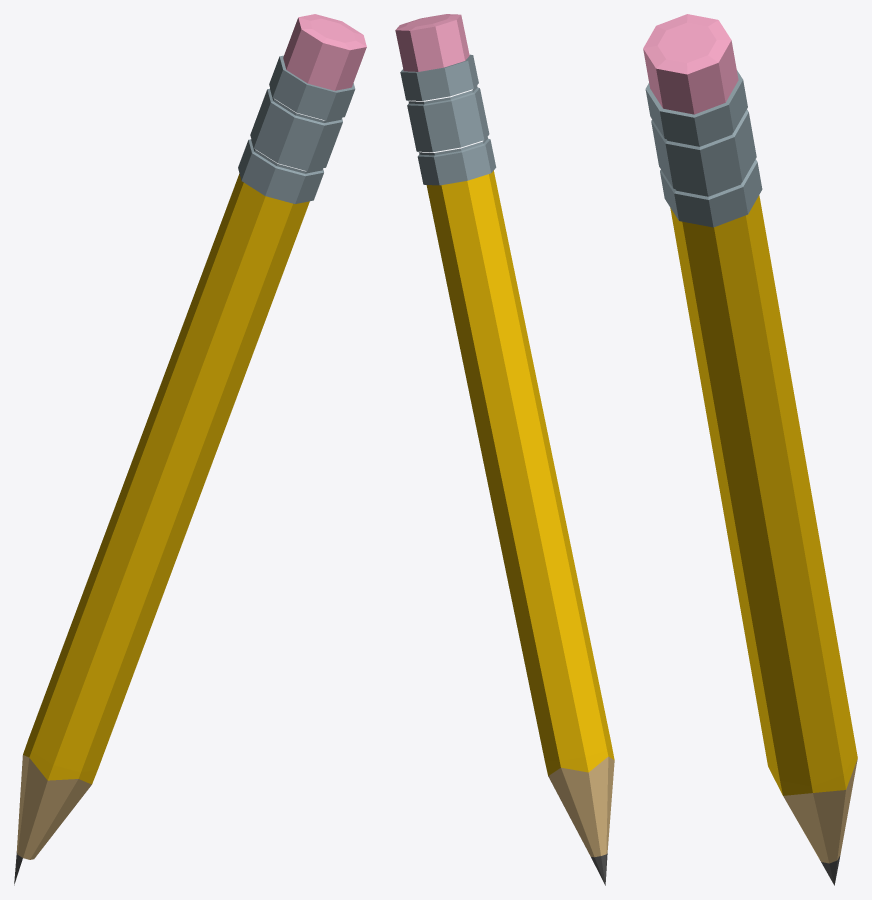
Rendered from Pencil-IsjHLtrv.glb.
The picture shows the model from 3 angles, left to right: view 1: azimuth 30°, elevation 25°; view 2: azimuth 150°, elevation 25°; view 3: azimuth 270°, elevation 25°; orthographic projection. The views are drawn at different scales.
Parts seen in each view (by area): view 1: Pencil.001; view 2: Pencil.001; view 3: Pencil.001.
Boxes of the visible parts, x1,y1,x2,y2 form: Pencil.001: [14, 14, 366, 885]; Pencil.001: [395, 14, 614, 885]; Pencil.001: [643, 14, 857, 885].
Size of the model in its own units: 0.1762 by 0.4965 by 0.0964.
